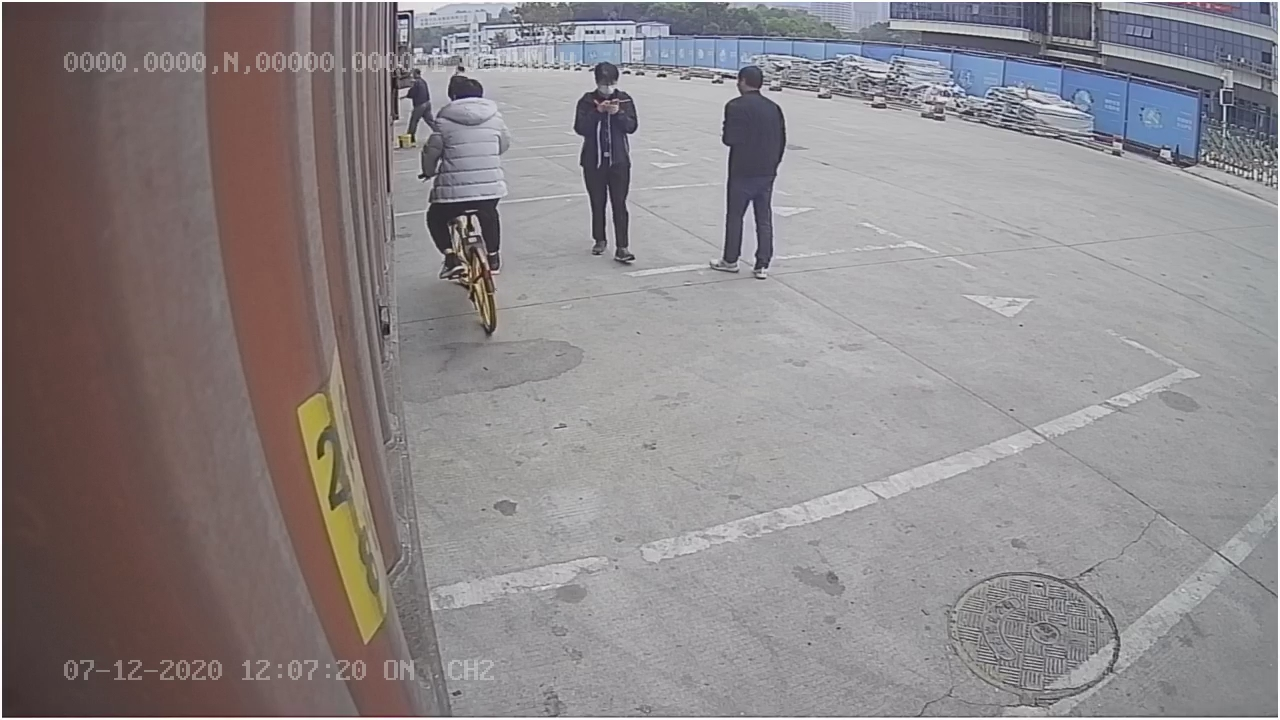person: (706, 64, 789, 284)
